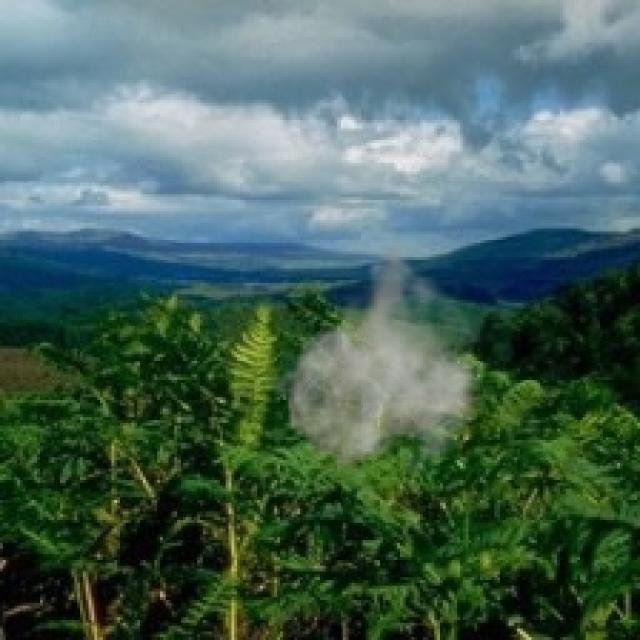smoke: (268, 234, 488, 492)
